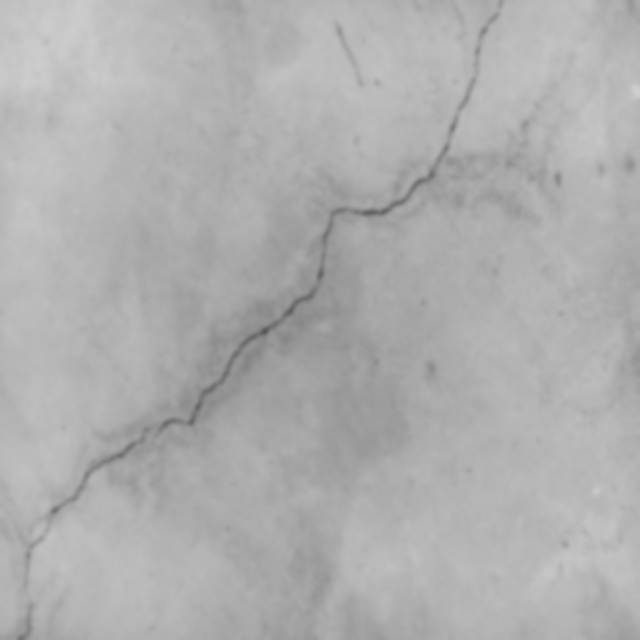SurfaceCrack: (1, 1, 634, 639)
